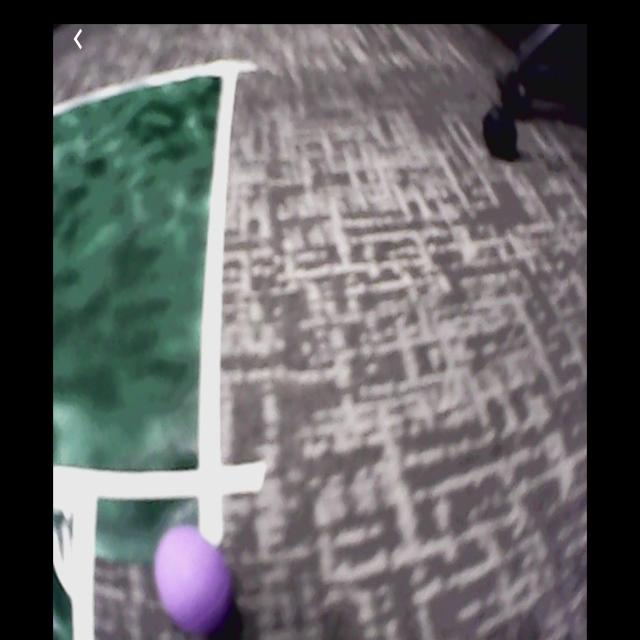ball: (154, 523, 236, 636)
